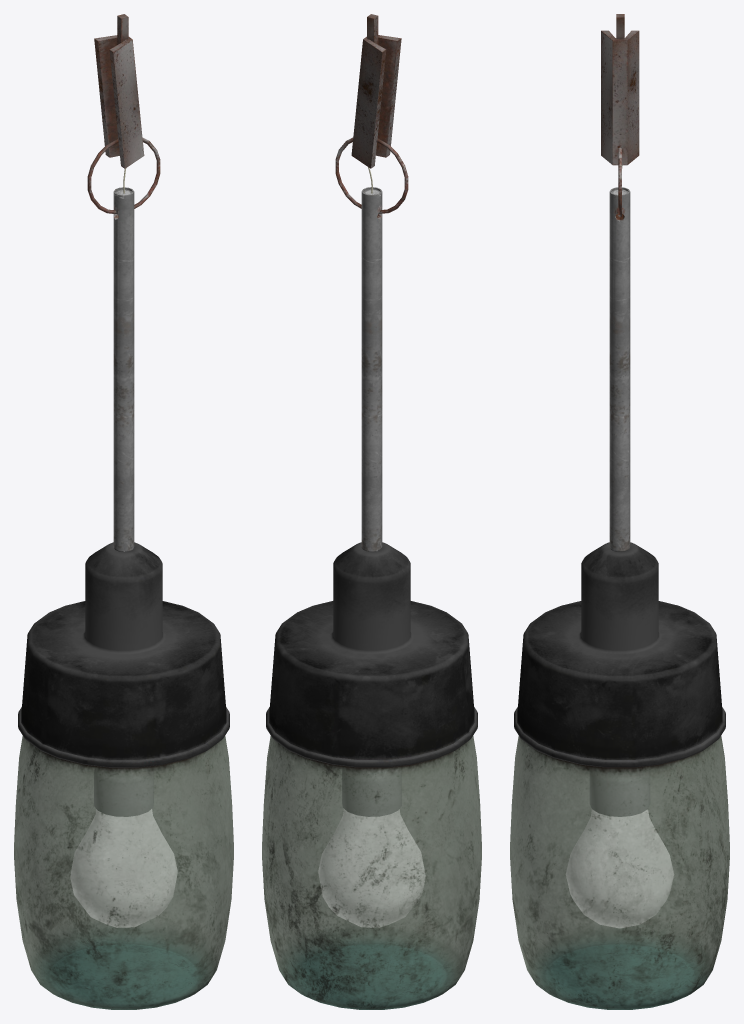
Rendered from old_glass_ceilling_lamp.glb.
The picture shows the model from 3 angles, left to right: view 1: azimuth 30°, elevation 25°; view 2: azimuth 150°, elevation 25°; view 3: azimuth 270°, elevation 25°; orthographic projection.
Visible parts, largest first — view 1: Glass, Cover, Bulb, MetalBar, WireCover, BulbShell, Ring; view 2: Glass, Cover, Bulb, MetalBar, WireCover, BulbShell, Ring; view 3: Glass, Cover, Bulb, MetalBar, WireCover, BulbShell.
Boxes of the visible parts, <box> form: Glass: <box>14,736,233,1009</box>; Cover: <box>18,542,229,767</box>; Bulb: <box>70,809,177,927</box>; MetalBar: <box>113,187,134,551</box>; WireCover: <box>94,35,144,168</box>; BulbShell: <box>94,768,153,816</box>; Ring: <box>87,137,160,214</box>; Glass: <box>262,736,481,1009</box>; Cover: <box>266,542,477,767</box>; Bulb: <box>318,809,425,927</box>; MetalBar: <box>361,187,382,551</box>; WireCover: <box>351,35,401,168</box>; BulbShell: <box>342,769,401,816</box>; Ring: <box>335,137,408,213</box>; Glass: <box>510,736,729,1009</box>; Cover: <box>514,542,725,767</box>; Bulb: <box>566,809,673,928</box>; MetalBar: <box>609,187,630,551</box>; WireCover: <box>601,30,639,165</box>; BulbShell: <box>590,769,649,816</box>.
Bounding box in the file's own units: 10.48 × 50.47 × 10.48.
1 material, 1 textured.
